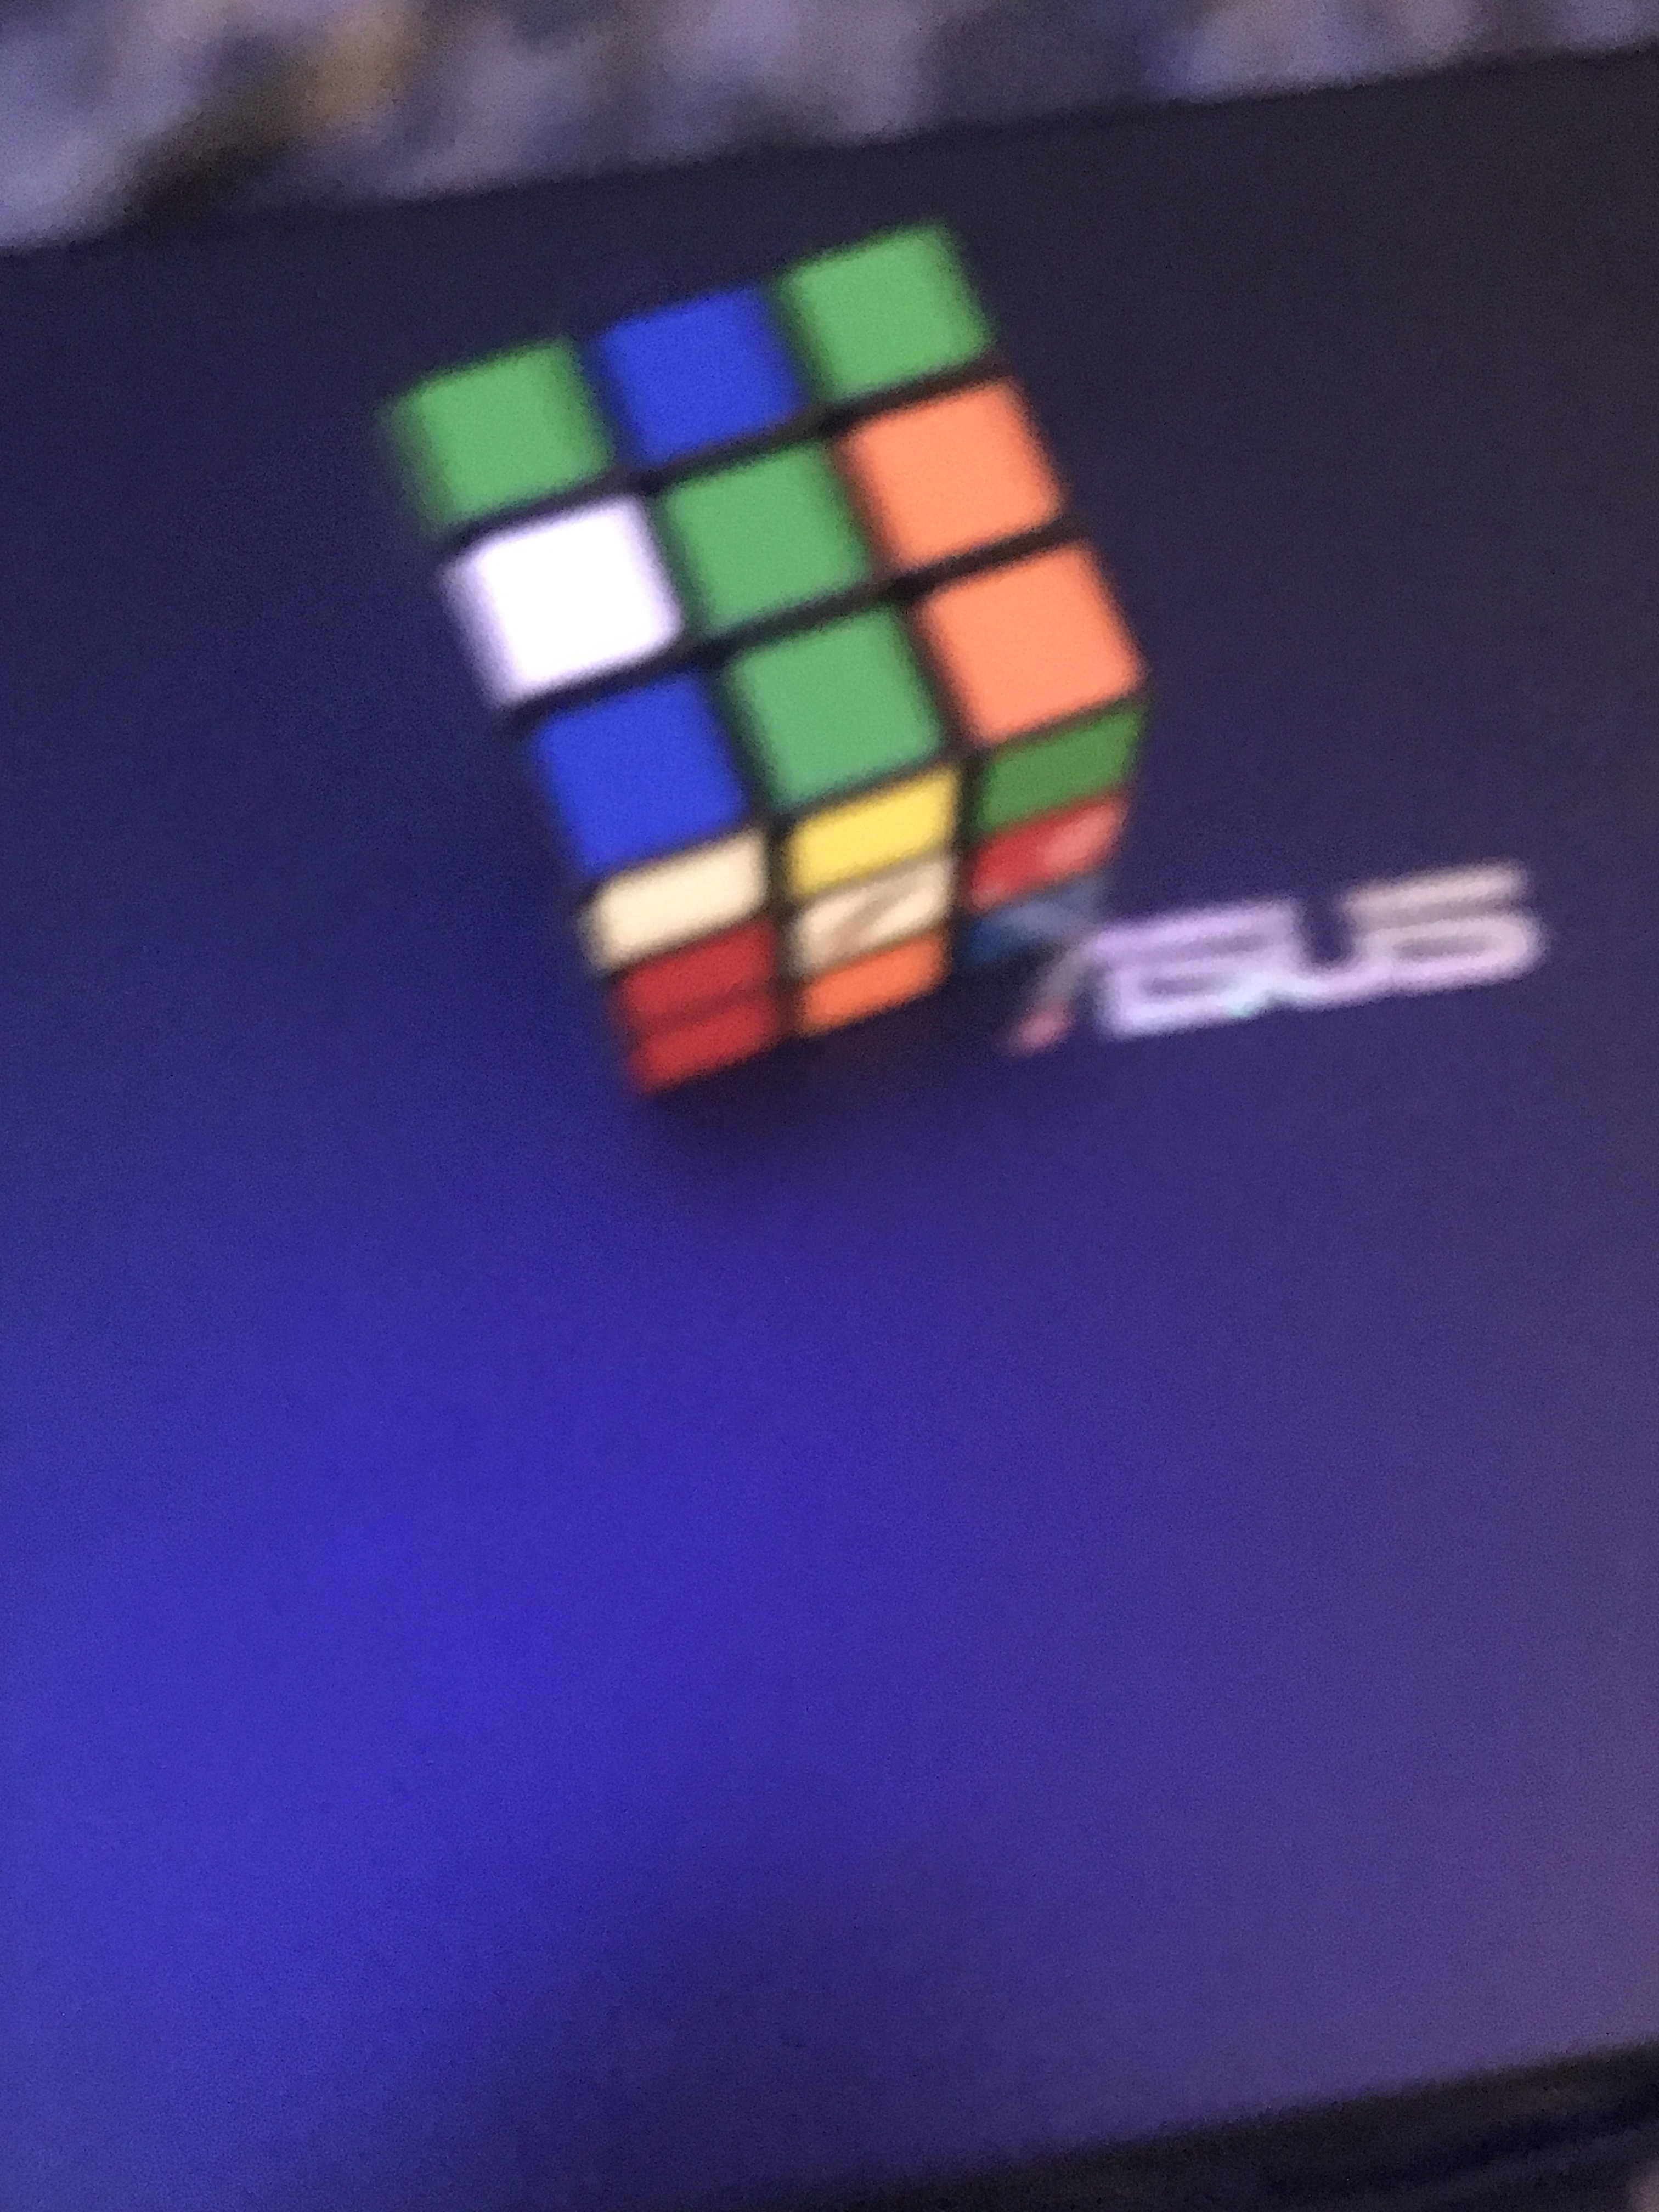rubiks: (404, 218, 1185, 1101)
